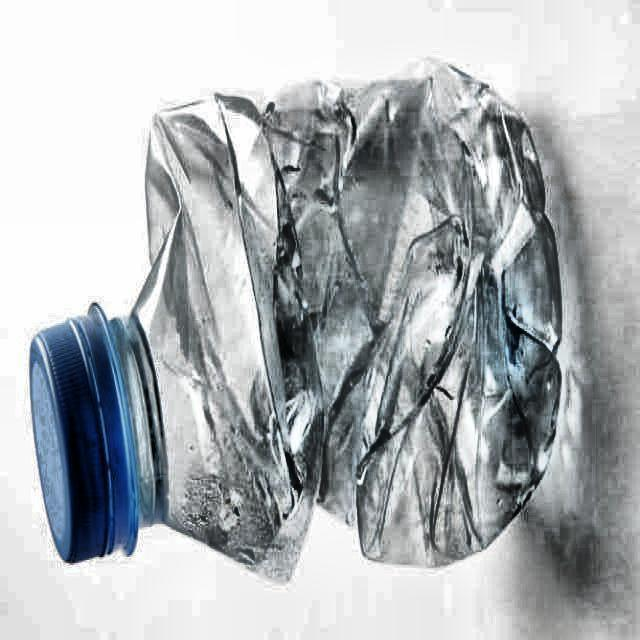plastic: (31, 66, 562, 579)
